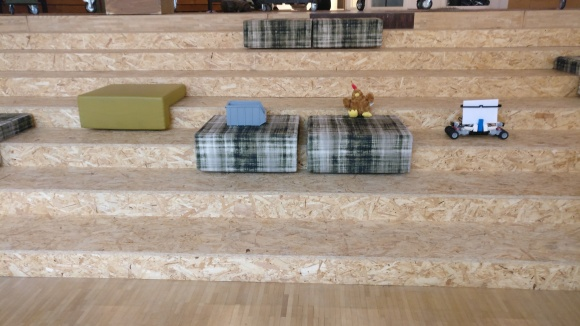car: (445, 97, 509, 141)
chicken: (340, 79, 375, 117)
tray: (224, 97, 268, 127)
